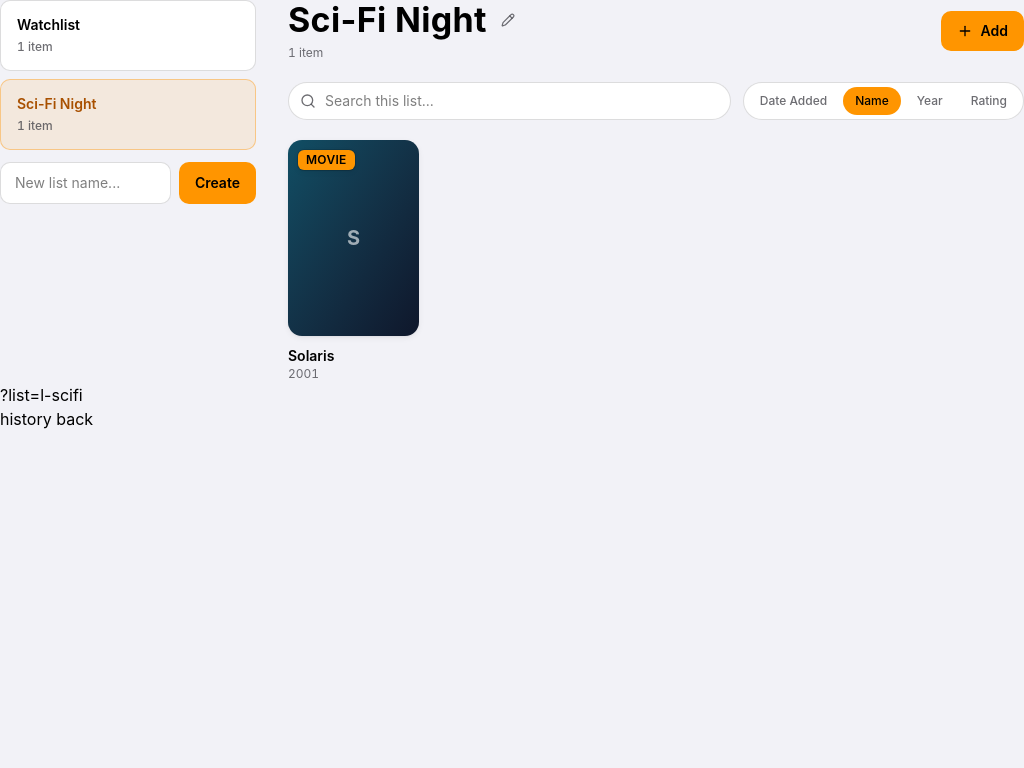
Scenario: ListsPage add-item modal › says so when the add fails, rather than leaving the row looking untouched
Check: the text "Solaris" is shown, box [288,347,334,364]
Click the button "Add". click: (982, 31)
box: [940,11,1023,51]
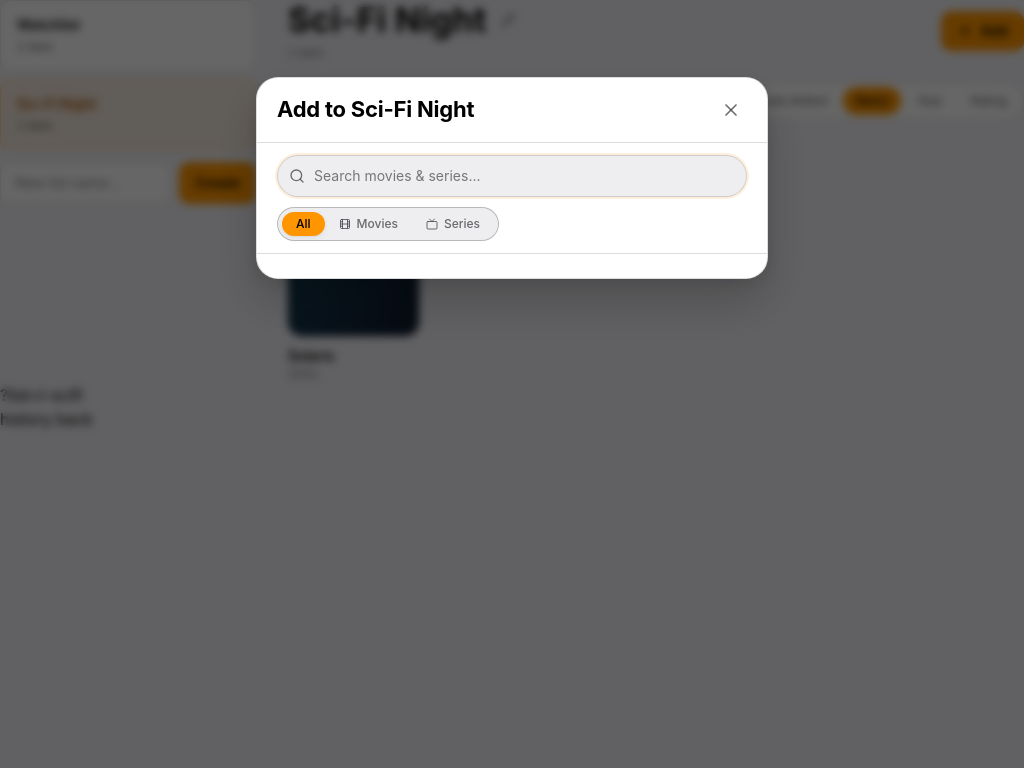
Type "sol" into the field named "Search movies and series". click: (512, 176)
box: [277,155,747,197]
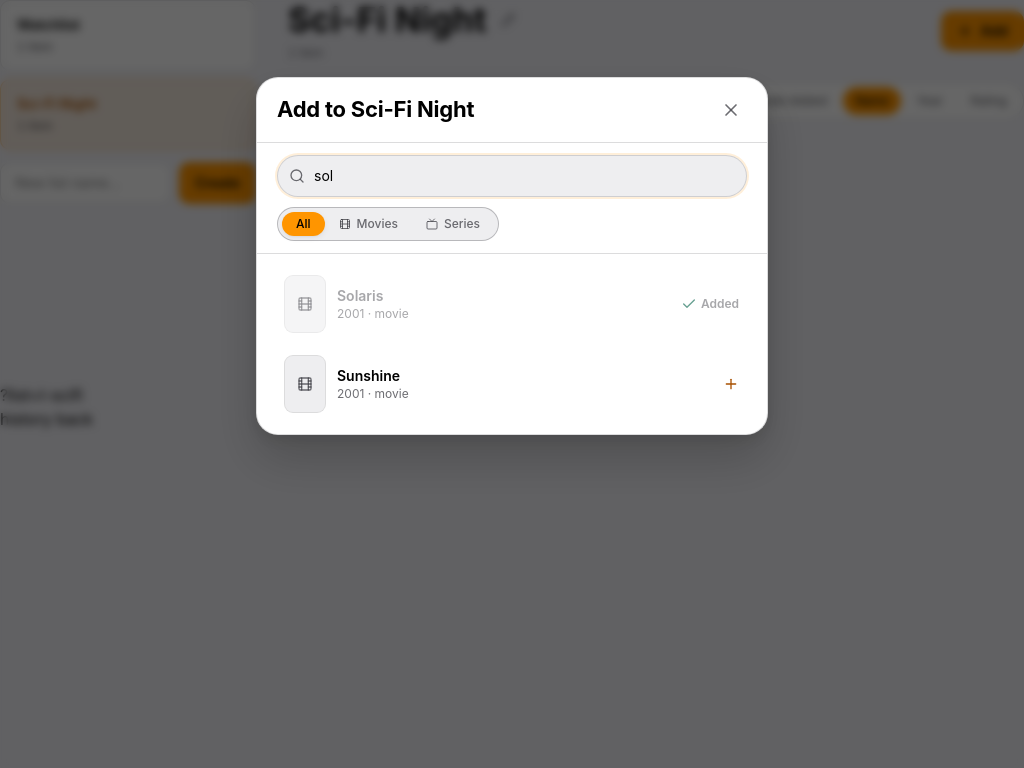
Click the button "Sunshine 2001 · movie". click: (305, 384)
box: [277,346,747,422]
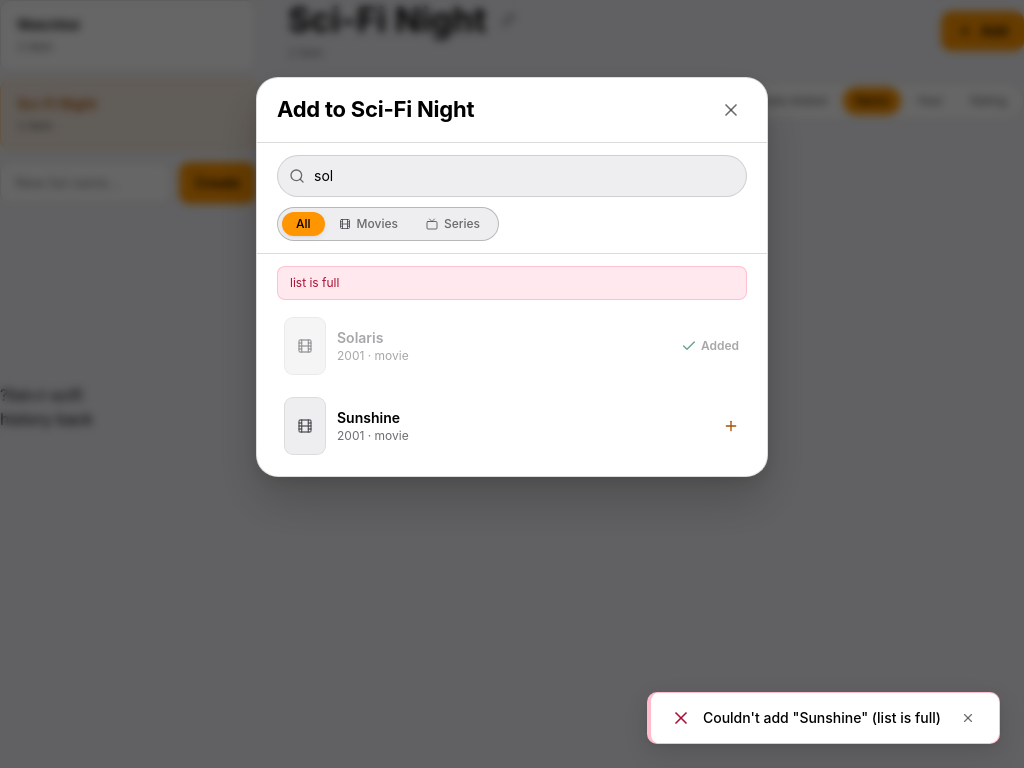
Check: the button "Sunshine 2001 · movie" does not show "Added", box [277,388,747,464]
Check: the text "Couldn't add \"Sunshine\" (list is full)" is shown, box [703,708,941,728]
